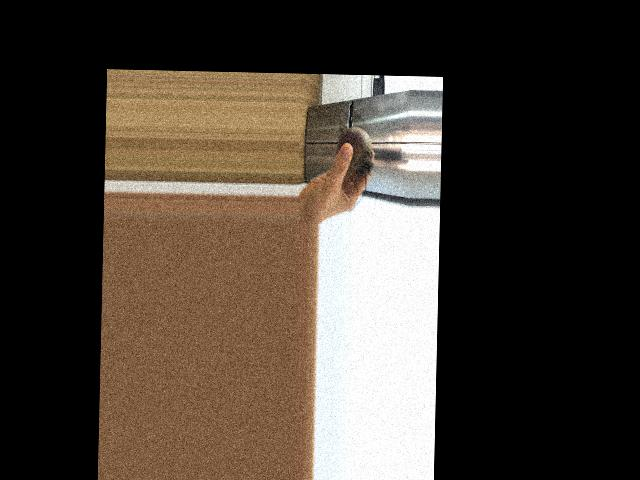beet: (335, 118, 374, 212)
